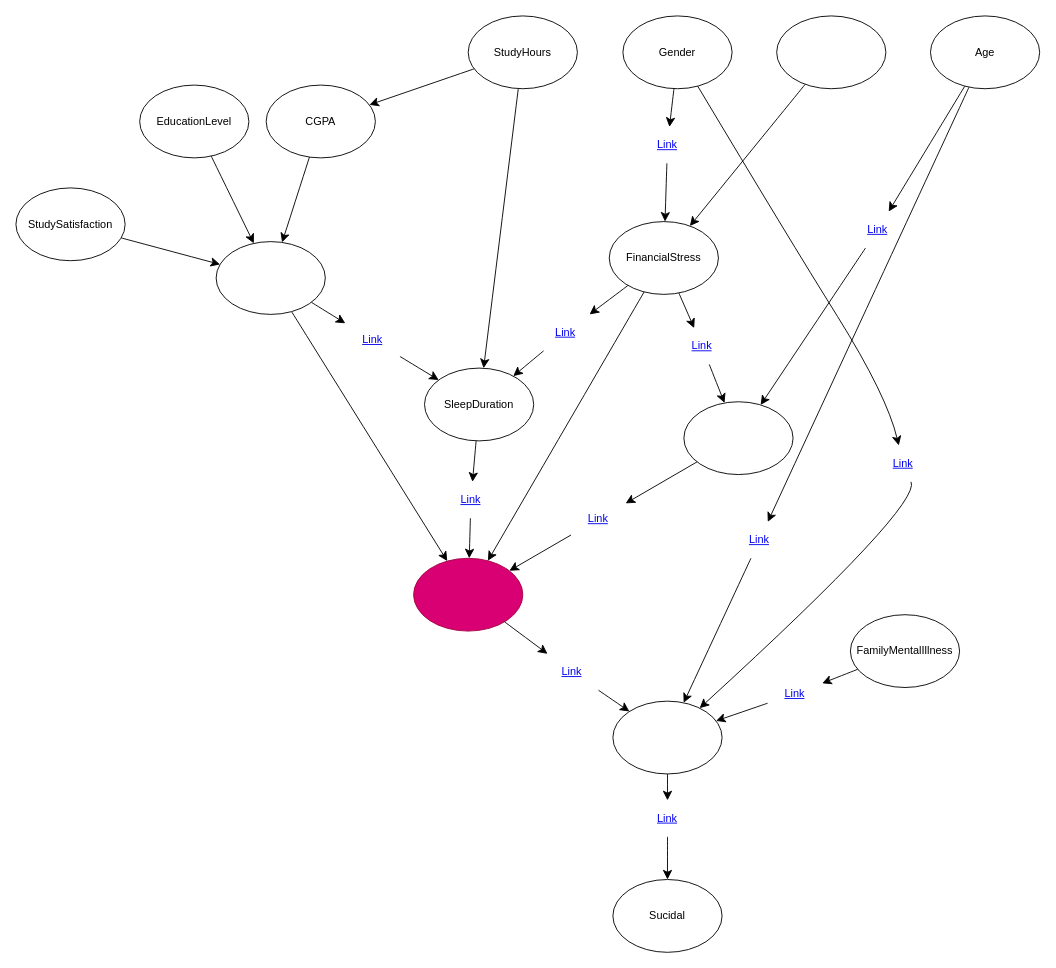
Some shapes in this 1056 by 968 pixel diagram are drawn without their labels. The shapes that lost their labels are listed below. From the top down, each one's box as (x1, y1, x2, y2) in pixels, then its label:
(776, 15, 886, 89): Regions
(215, 241, 325, 314): AcademicPressure
(683, 401, 793, 475): DietaryHabits
(413, 557, 523, 631): Stress
(612, 700, 722, 774): Depression
